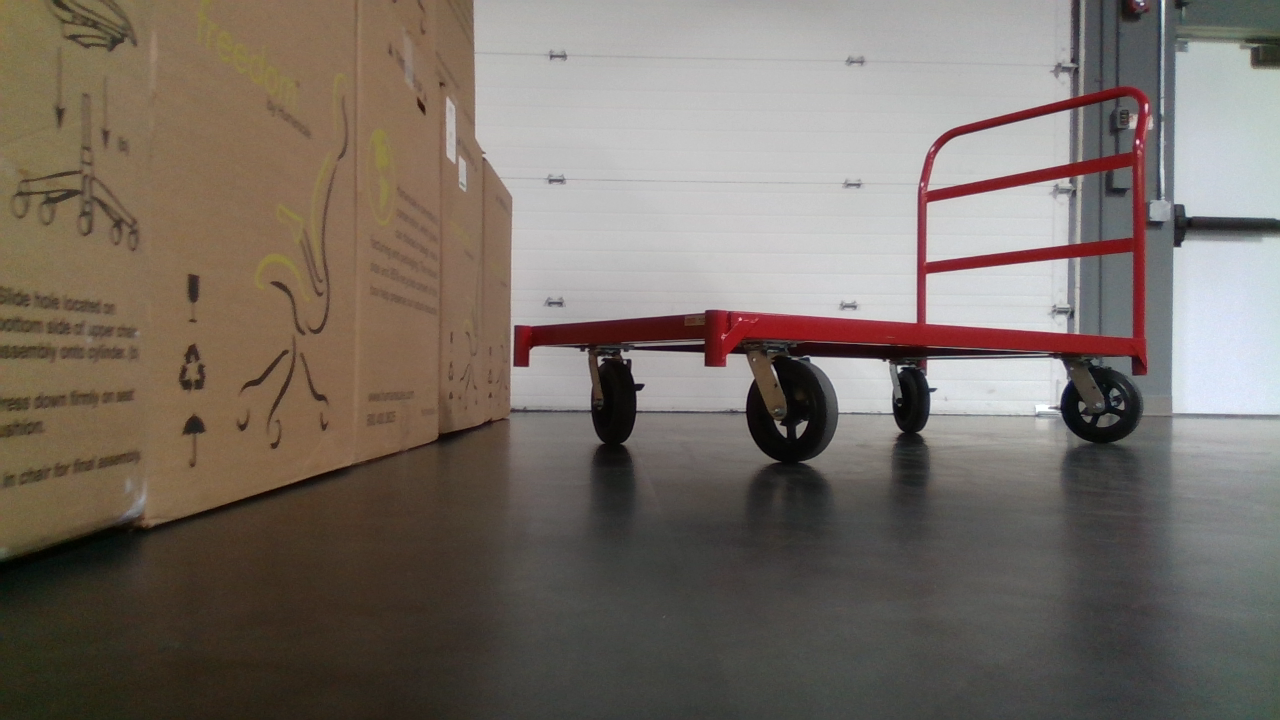Dolly: (509, 75, 1163, 461)
Wheel: (740, 352, 843, 468), (1061, 365, 1142, 447), (581, 347, 642, 451), (890, 363, 935, 440)
